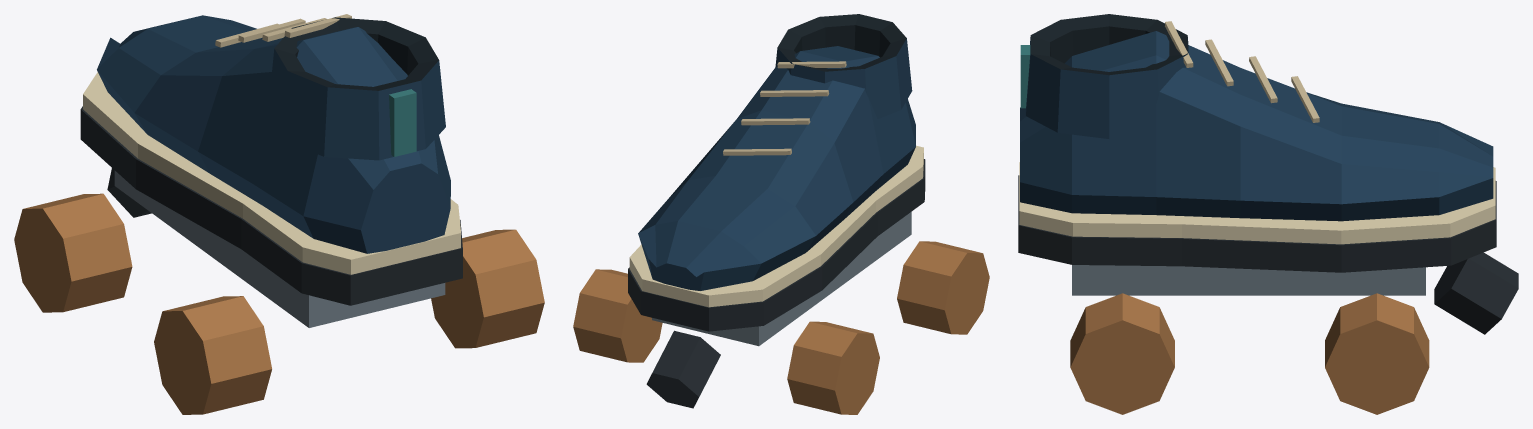
The model's file is b17_quad_roller_skate.glb.
3 views of the same model, side by side, from view 1: azimuth 30°, elevation 25°; view 2: azimuth 150°, elevation 25°; view 3: azimuth 270°, elevation 25° (orthographic). The views are drawn at different scales.
Parts seen in each view (by area): view 1: b17_quad_roller_skate; view 2: b17_quad_roller_skate; view 3: b17_quad_roller_skate.
Boxes of the visible parts, x1,y1,x2,y2 form: b17_quad_roller_skate: (14,14,544,414); b17_quad_roller_skate: (573,14,989,414); b17_quad_roller_skate: (1018,14,1518,414).
Size of the model in its own units: 0.208 by 0.1985 by 0.2971.
